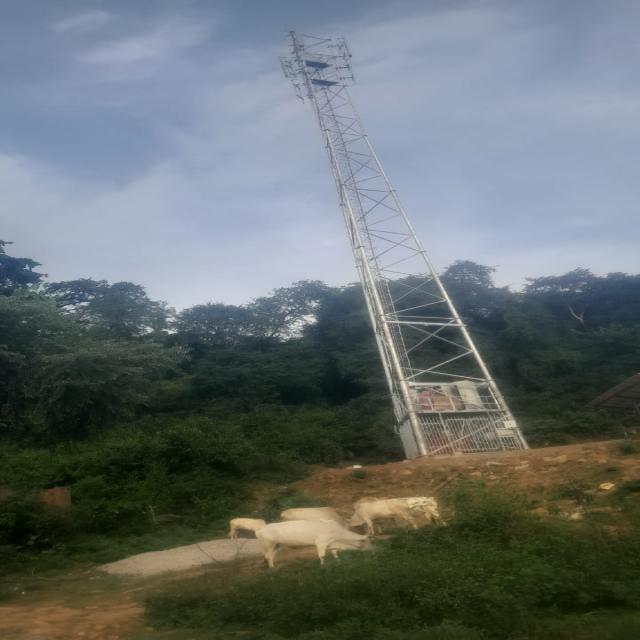GSM Antenna: (331, 34, 361, 62), (272, 54, 296, 78)
